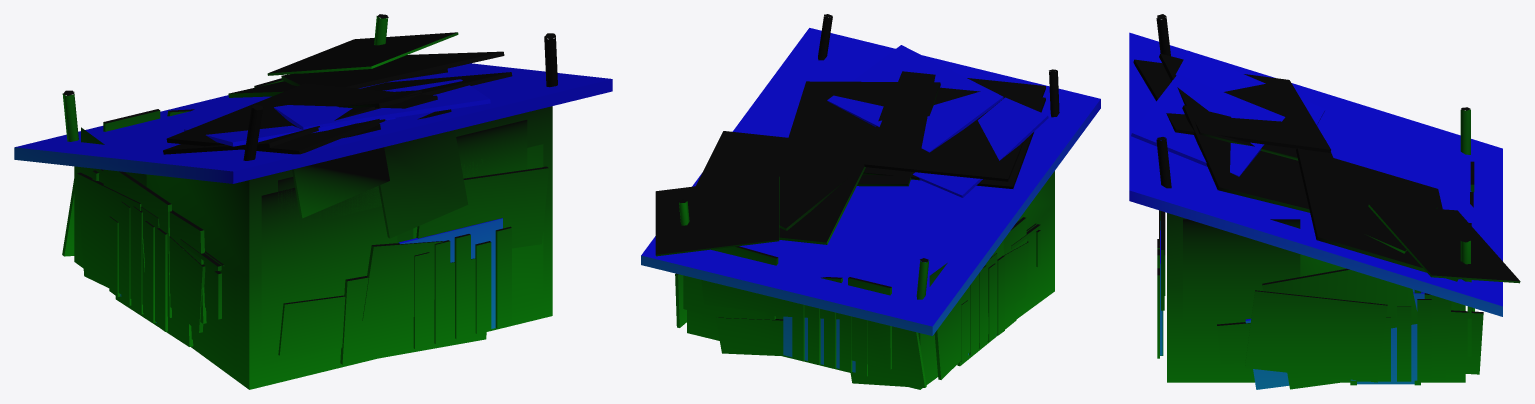
The model's file is crashshanty1.glb.
3 renders of one model, left to right at view 1: azimuth 30°, elevation 25°; view 2: azimuth 150°, elevation 25°; view 3: azimuth 270°, elevation 25°, orthographic. The views are drawn at different scales.
Visible parts, largest first — view 1: lod0; view 2: lod0; view 3: lod0.
Part boxes in pixels (x1,y1,x2,y2): lod0: (14, 14, 612, 389); lod0: (641, 14, 1100, 389); lod0: (1129, 14, 1520, 389).
Size of what is drawn, in the model's own units: 7.42 by 5.22 by 7.33.
